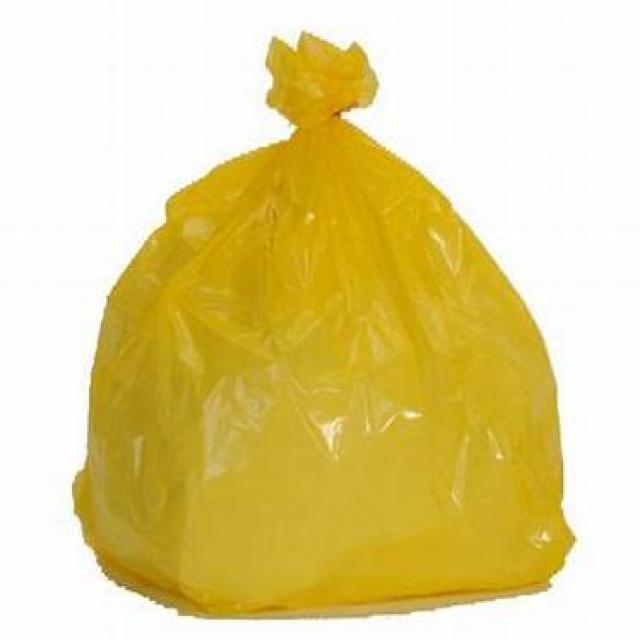vinyl: (70, 32, 578, 620)
